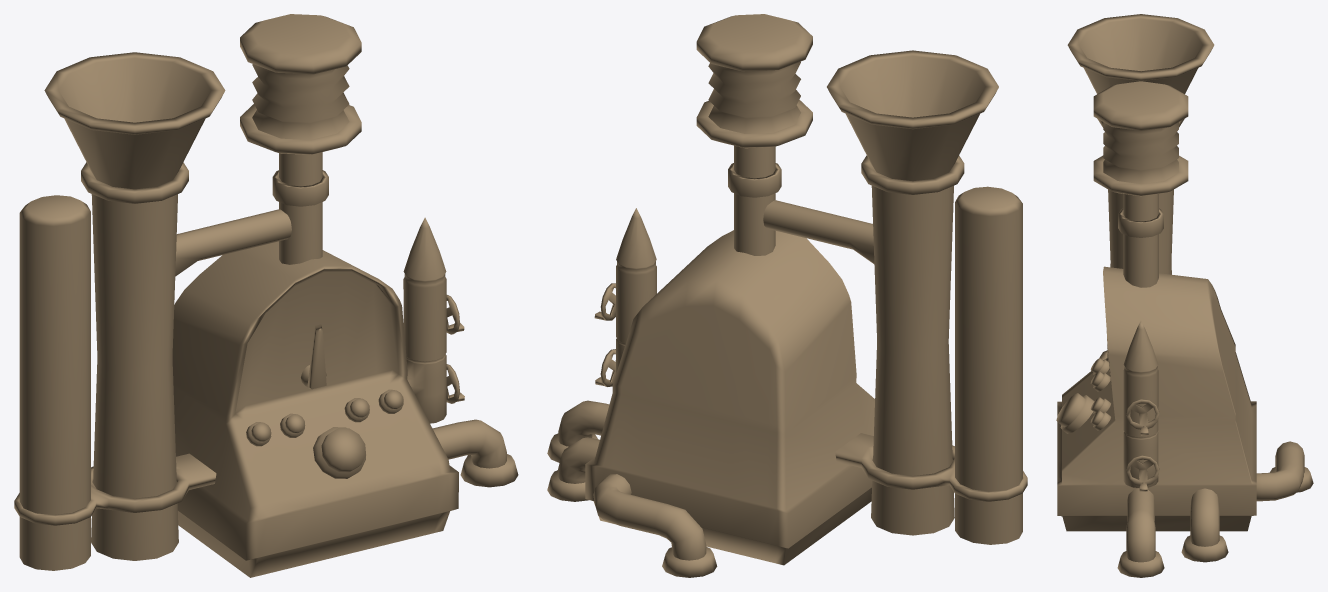
The model's file is WeatherMachine.fbx.
3 renders of one model, left to right at view 1: azimuth 30°, elevation 25°; view 2: azimuth 150°, elevation 25°; view 3: azimuth 270°, elevation 25°, orthographic. The views are drawn at different scales.
Visible parts, largest first — view 1: BaseMaquina, TuboDeHumo3, TanqueSecundario, TuboDeHumo, pCylinder14, Acordeon2, polySurface2, Conector, Soporte_01, TubosDePropulsion, Tubo_01, polySurface1 (+6 smaller); view 2: BaseMaquina, TuboDeHumo3, TanqueSecundario, TuboDeHumo, Acordeon2, polySurface2, Tubo_03, pCylinder14, Conector, TubosDePropulsion, Soporte_01, polySurface1 (+6 smaller); view 3: BaseMaquina, TuboDeHumo, pCylinder14, Acordeon2, polySurface2, TubosDePropulsion, TuboDeHumo3, Tubo_01, Tubo_03, Tubo_02, polySurface1, Soporte_03 (+6 smaller).
Boxes of the visible parts, x1,y1,x2,y2 form: BaseMaquina: [172, 241, 458, 577]; TuboDeHumo3: [91, 194, 178, 560]; TanqueSecundario: [19, 195, 90, 570]; TuboDeHumo: [44, 52, 225, 189]; pCylinder14: [403, 217, 446, 423]; Acordeon2: [252, 64, 349, 139]; polySurface2: [240, 14, 361, 74]; Conector: [175, 209, 291, 276]; Soporte_01: [14, 453, 216, 525]; TubosDePropulsion: [279, 152, 322, 264]; Tubo_01: [432, 419, 506, 468]; polySurface1: [240, 104, 361, 154]; BaseMaquina: [585, 230, 874, 565]; TuboDeHumo3: [871, 185, 954, 535]; TanqueSecundario: [955, 186, 1022, 544]; TuboDeHumo: [827, 50, 998, 181]; Acordeon2: [708, 61, 800, 133]; polySurface2: [696, 14, 812, 71]; Tubo_03: [593, 474, 706, 560]; pCylinder14: [616, 208, 656, 373]; Conector: [763, 200, 874, 263]; TubosDePropulsion: [734, 145, 775, 255]; Soporte_01: [835, 433, 1027, 501]; polySurface1: [696, 100, 812, 148]; BaseMaquina: [1057, 266, 1256, 531]; TuboDeHumo: [1067, 14, 1214, 94]; pCylinder14: [1123, 321, 1158, 488]; Acordeon2: [1103, 122, 1178, 183]; polySurface2: [1093, 81, 1188, 130]; TubosDePropulsion: [1123, 194, 1158, 287]; TuboDeHumo3: [1107, 189, 1173, 357]; Tubo_01: [1126, 488, 1155, 562]; Tubo_03: [1256, 441, 1304, 501]; Tubo_02: [1190, 488, 1219, 546]; polySurface1: [1093, 155, 1188, 196]; Soporte_03: [1118, 208, 1163, 237].
Size of the model in its own units: 4.61 by 4.34 by 2.56.
